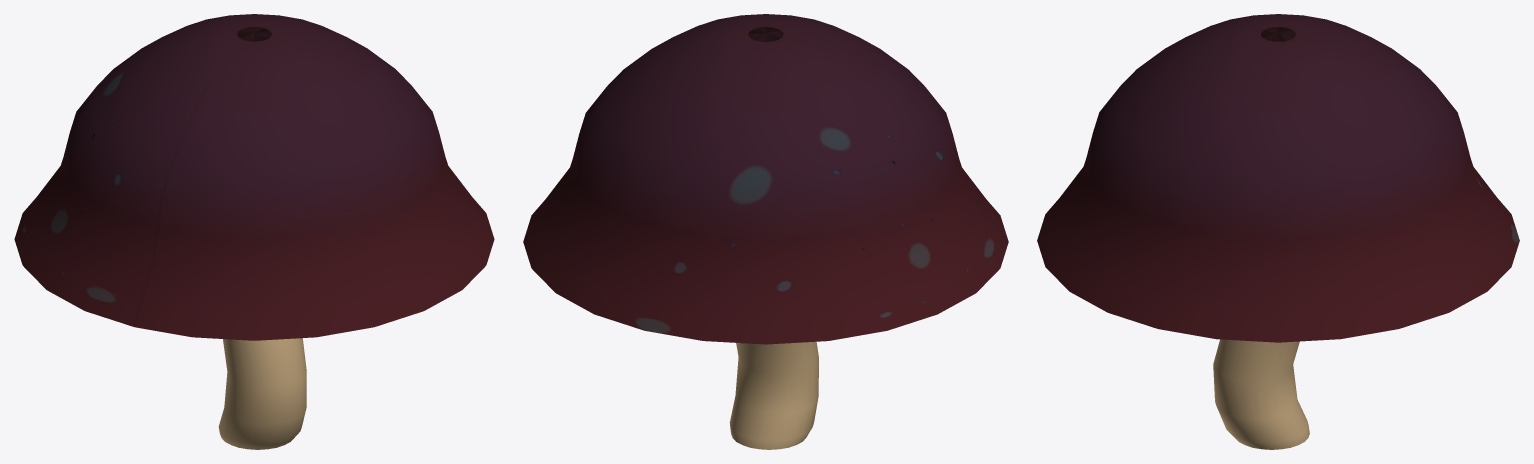
The model's file is mush3.fbx.
3 views of the same model, side by side, from view 1: azimuth 30°, elevation 25°; view 2: azimuth 150°, elevation 25°; view 3: azimuth 270°, elevation 25° (orthographic).
Parts seen in each view (by area): view 1: Cylinder.002; view 2: Cylinder.002; view 3: Cylinder.002.
Part boxes in pixels (x1=…): Cylinder.002: x1=14, y1=14, x2=494, y2=449; Cylinder.002: x1=523, y1=14, x2=1008, y2=449; Cylinder.002: x1=1037, y1=14, x2=1519, y2=449.
Size of the model in its own units: 528 by 485 by 528.
